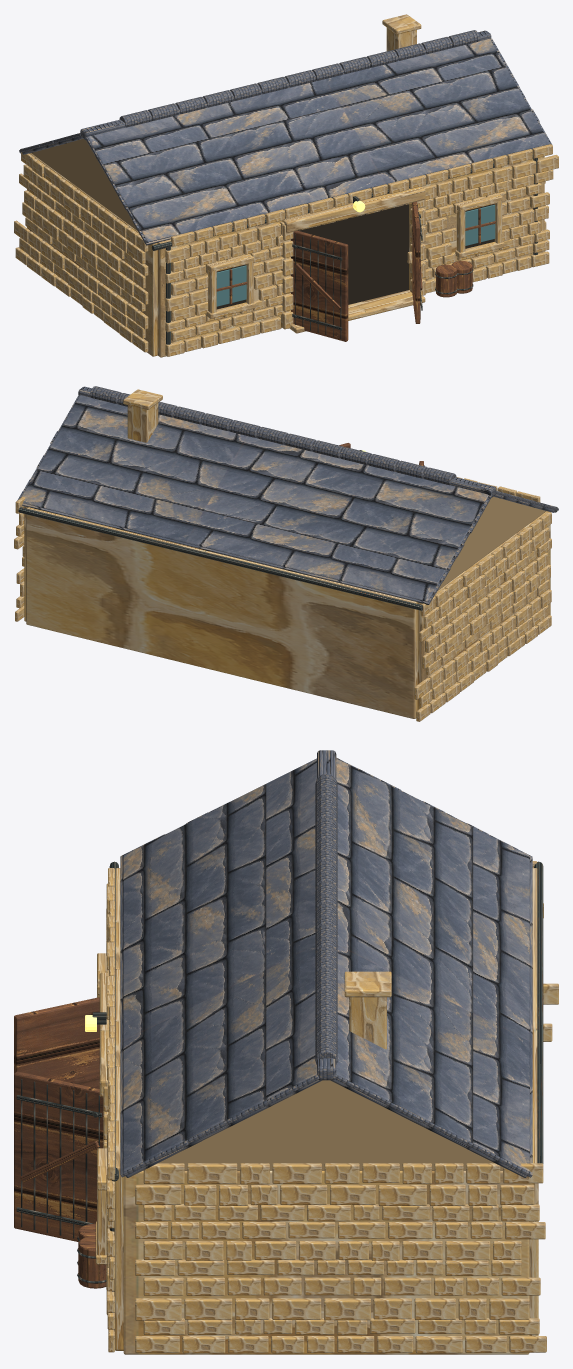
Rendered from bracken_stone_barn.glb.
3 renders of one model, top to bottom at view 1: azimuth 30°, elevation 25°; view 2: azimuth 150°, elevation 25°; view 3: azimuth 270°, elevation 25°, orthographic. The views are drawn at different scales.
Parts seen in each view (by area): view 1: Static_Weathered_Blue_Grey_Slate, Static_Cotswold_Limestone_Pale, Static_Cotswold_Limestone_Shade, Static_Cotswold_Limestone_Gold, Static_Cotswold_Limestone_Honey, Static_Warm_Lime_Mortar, Static_Deep_Barn_Interior, Static_Sunlit_Slate, LeftBarnDoor, Static_Dusty_Barn_Glass, Static_Aged_English_Oak, RightBarnDoor (+2 smaller); view 2: Static_Weathered_Blue_Grey_Slate, Static_Warm_Lime_Mortar, Static_Cotswold_Limestone_Gold, Static_Sunlit_Slate, Static_Cotswold_Limestone_Pale, Static_Cotswold_Limestone_Honey, Static_Cotswold_Limestone_Shade, Static_Black_Forged_Iron, Static_Slate_Course_Shadow; view 3: Static_Weathered_Blue_Grey_Slate, Static_Warm_Lime_Mortar, Static_Cotswold_Limestone_Shade, Static_Cotswold_Limestone_Honey, Static_Cotswold_Limestone_Gold, Static_Cotswold_Limestone_Pale, RightBarnDoor, Static_Sunlit_Slate, LeftBarnDoor, Static_Slate_Course_Shadow, Static_Black_Forged_Iron, Static_Aged_English_Oak.
Boxes of the visible parts, x1,y1,x2,y2 form: Static_Weathered_Blue_Grey_Slate: [22, 39, 549, 241]; Static_Cotswold_Limestone_Pale: [22, 14, 548, 343]; Static_Cotswold_Limestone_Shade: [27, 158, 553, 356]; Static_Cotswold_Limestone_Gold: [14, 27, 533, 333]; Static_Cotswold_Limestone_Honey: [15, 144, 558, 352]; Static_Warm_Lime_Mortar: [27, 139, 544, 357]; Static_Deep_Barn_Interior: [216, 204, 494, 309]; Static_Sunlit_Slate: [32, 30, 539, 220]; LeftBarnDoor: [291, 230, 348, 341]; Static_Dusty_Barn_Glass: [216, 204, 495, 306]; Static_Aged_English_Oak: [216, 208, 495, 304]; RightBarnDoor: [412, 201, 420, 323]; Static_Weathered_Blue_Grey_Slate: [21, 395, 555, 601]; Static_Warm_Lime_Mortar: [24, 496, 550, 718]; Static_Cotswold_Limestone_Gold: [14, 403, 547, 702]; Static_Sunlit_Slate: [30, 386, 543, 581]; Static_Cotswold_Limestone_Pale: [22, 389, 551, 698]; Static_Cotswold_Limestone_Honey: [15, 524, 551, 721]; Static_Cotswold_Limestone_Shade: [15, 477, 551, 713]; Static_Black_Forged_Iron: [18, 450, 557, 610]; Static_Slate_Course_Shadow: [17, 407, 558, 604]; Static_Weathered_Blue_Grey_Slate: [123, 758, 529, 1177]; Static_Warm_Lime_Mortar: [114, 868, 538, 1354]; Static_Cotswold_Limestone_Shade: [106, 868, 543, 1352]; Static_Cotswold_Limestone_Honey: [106, 861, 552, 1353]; Static_Cotswold_Limestone_Gold: [95, 886, 558, 1353]; Static_Cotswold_Limestone_Pale: [97, 883, 521, 1334]; RightBarnDoor: [14, 1071, 103, 1241]; Static_Sunlit_Slate: [164, 750, 488, 1155]; LeftBarnDoor: [14, 997, 99, 1088]; Static_Slate_Course_Shadow: [120, 768, 532, 1177]; Static_Black_Forged_Iron: [77, 861, 543, 1291]; Static_Aged_English_Oak: [78, 1223, 106, 1288].
Size of the model in its own units: 14.96 by 7 by 10.74.
Materials: 10 (5 with a texture image).
